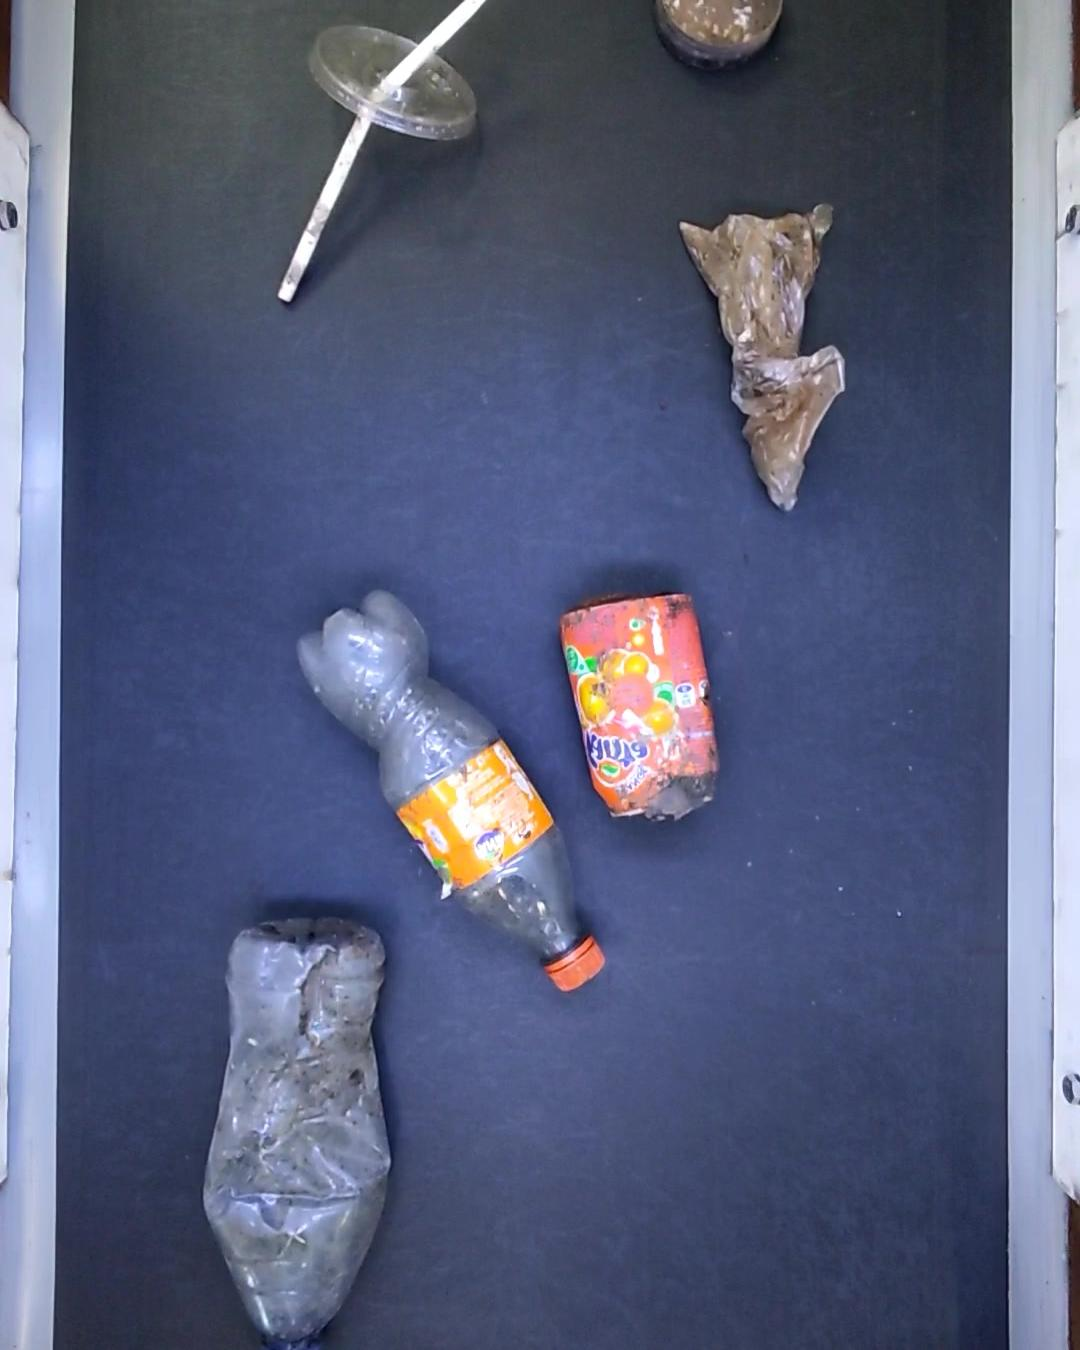Drankblikjes: (562, 585, 722, 827)
Drankflessen - 1-2 liter: (290, 585, 608, 995), (205, 912, 396, 1350)
Plastic folies of stukken daarvan 2.5- 50 cm: (673, 190, 862, 514)
